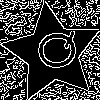Q: (27, 28, 81, 73)
